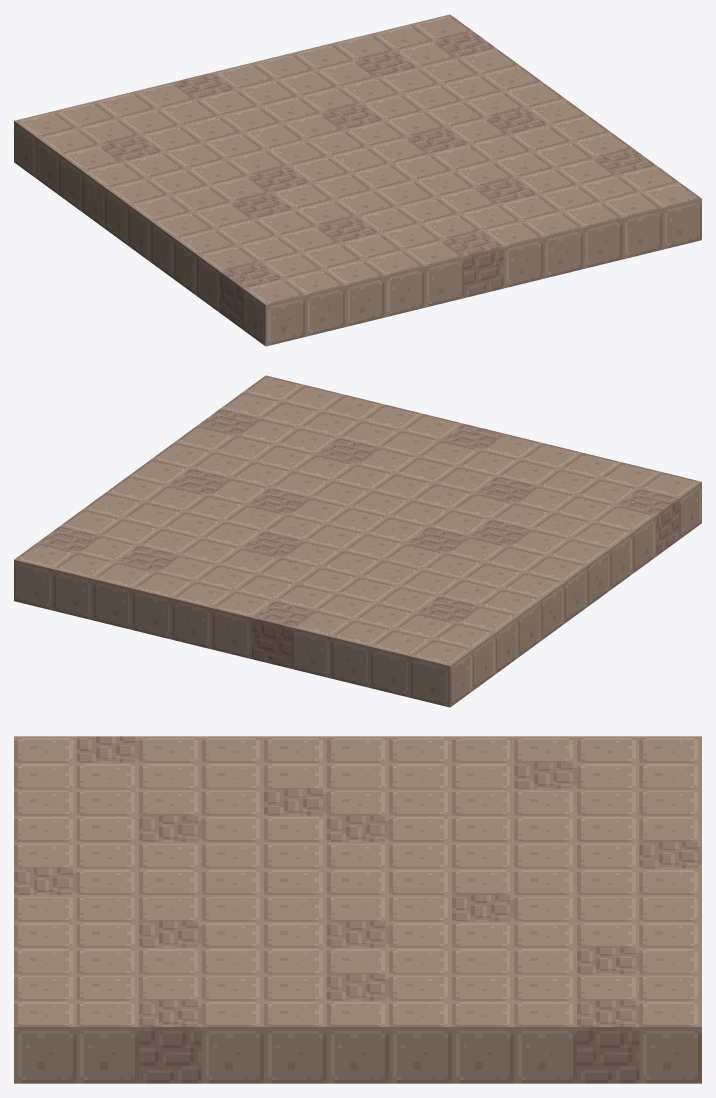
3 views of the same model, one above another, from view 1: azimuth 30°, elevation 25°; view 2: azimuth 150°, elevation 25°; view 3: azimuth 270°, elevation 25° (orthographic). The views are drawn at different scales.
Parts seen in each view (by area): view 1: city_road_3.schem; view 2: city_road_3.schem; view 3: city_road_3.schem.
Part boxes in pixels (x1,y1,x2,y2): city_road_3.schem: (14,14,701,346); city_road_3.schem: (14,375,701,707); city_road_3.schem: (14,736,701,1083).
Size of the model in its own units: 2 by 0.1818 by 2.
Materials: 2 (2 with a texture image).
